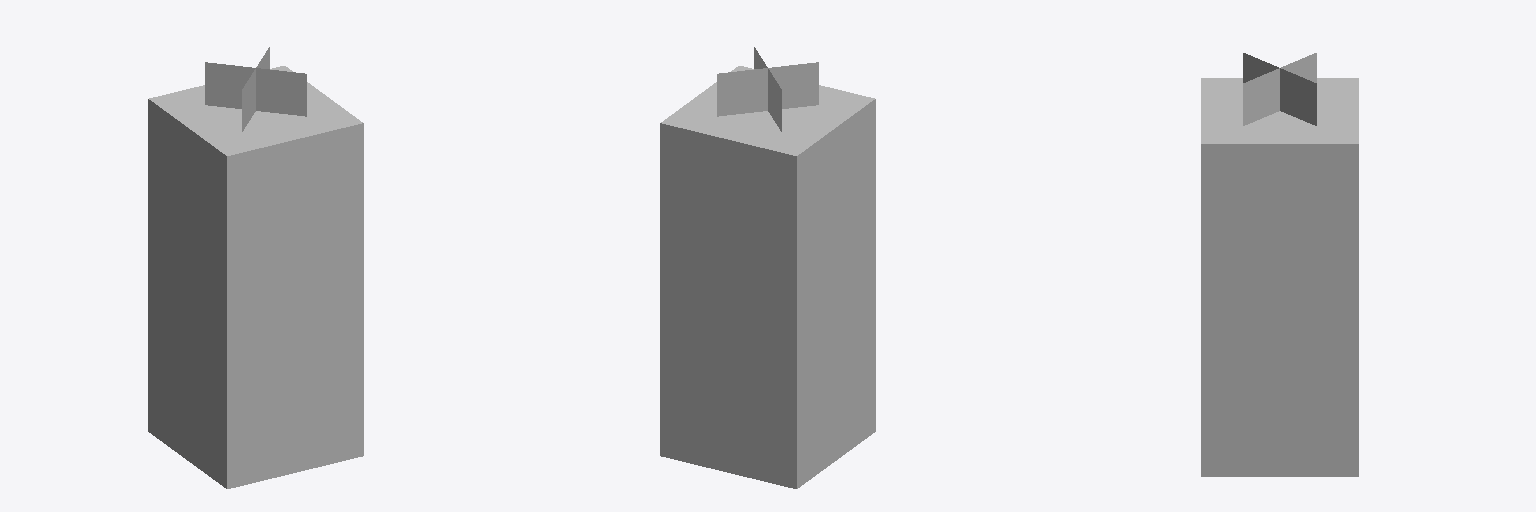
File: candle_min.obj
3 renders of one model, left to right at view 1: azimuth 30°, elevation 25°; view 2: azimuth 150°, elevation 25°; view 3: azimuth 270°, elevation 25°, orthographic.
Parts seen in each view (by area): view 1: cube; view 2: cube; view 3: cube.
Boxes of the visible parts, x1,y1,x2,y2 form: cube: [148, 47, 363, 488]; cube: [660, 47, 875, 488]; cube: [1201, 53, 1358, 476].
Bounding box in the file's own units: 0.1875 × 0.4939 × 0.1875.